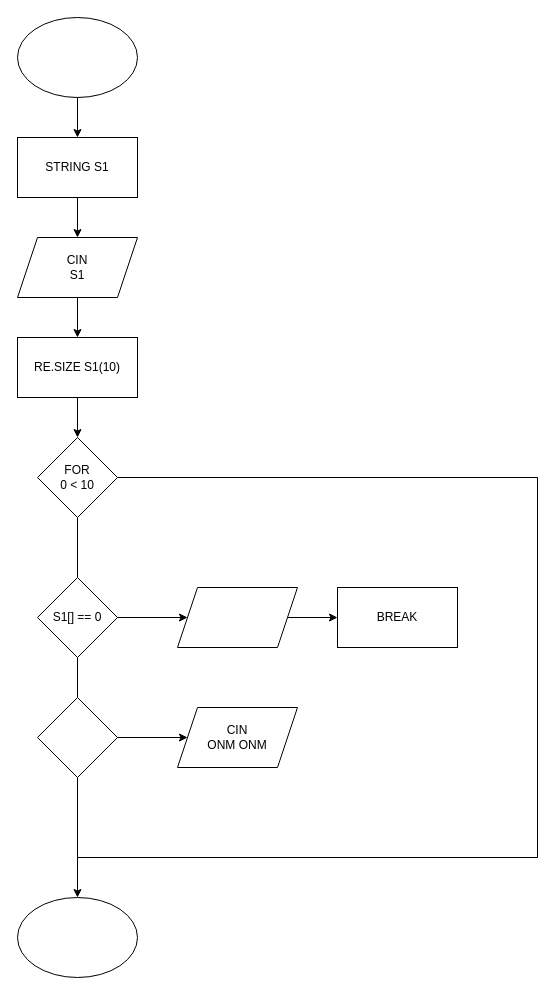
Some shapes in this 556 by 995 pixel diagram are drawn without their labels. Each missing label, with the centre of its shape:
CIN NO CAKE: [237,617]
ELSE: [77,737]
END: [77,937]
START: [77,57]
